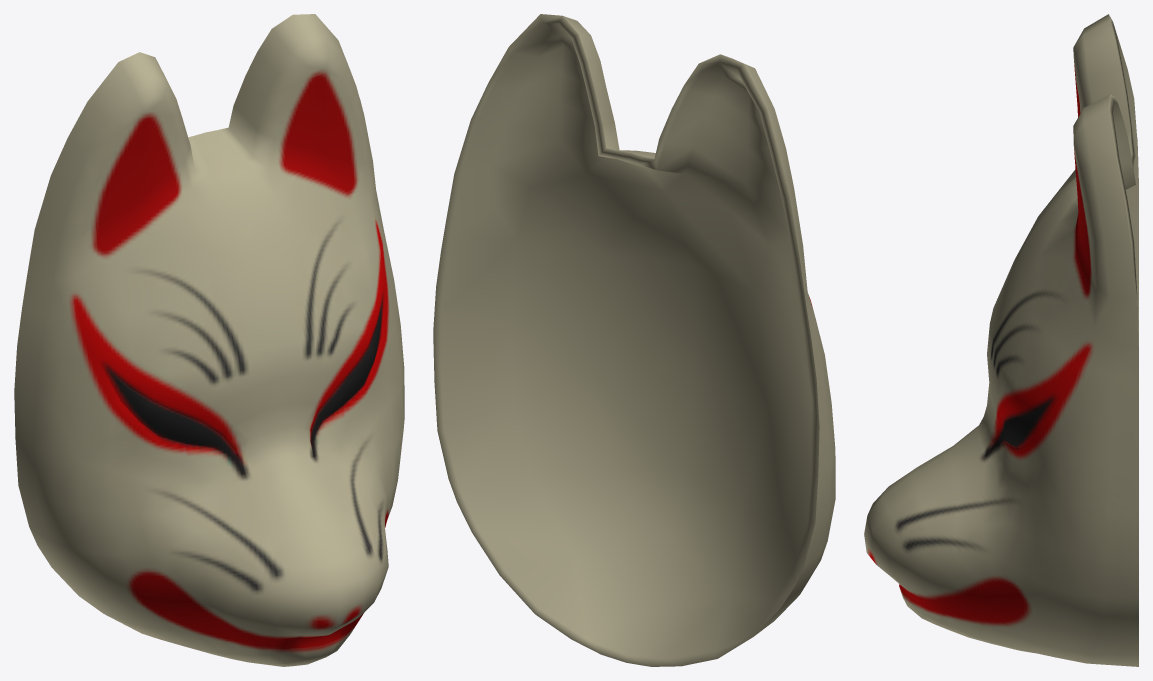
Rendered from CapMaskFox0.glb.
The picture shows the model from 3 angles, left to right: view 1: azimuth 30°, elevation 25°; view 2: azimuth 150°, elevation 25°; view 3: azimuth 270°, elevation 25°; orthographic projection. The views are drawn at different scales.
Visible parts, largest first — view 1: Body__mCap; view 2: Body__mCap; view 3: Body__mCap.
Part boxes in pixels (left/top/right/bottom): Body__mCap: left=14, top=14, right=404, bottom=666; Body__mCap: left=433, top=14, right=835, bottom=666; Body__mCap: left=864, top=14, right=1138, bottom=666.
Size of the model in its own units: 4.81 by 7.34 by 3.09.
1 material, 1 textured.
